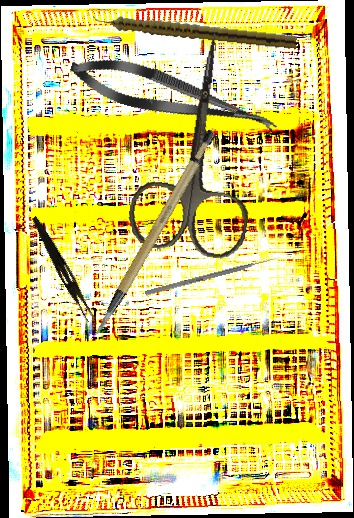Dressing Forceps: (26, 215, 99, 323)
Handpiece: (91, 10, 298, 50)
Iris Scissors: (124, 24, 276, 262)
Micro Scissor: (65, 46, 283, 147)
Pusher: (144, 255, 281, 296)
Scalpel Handle: (64, 127, 242, 337)
